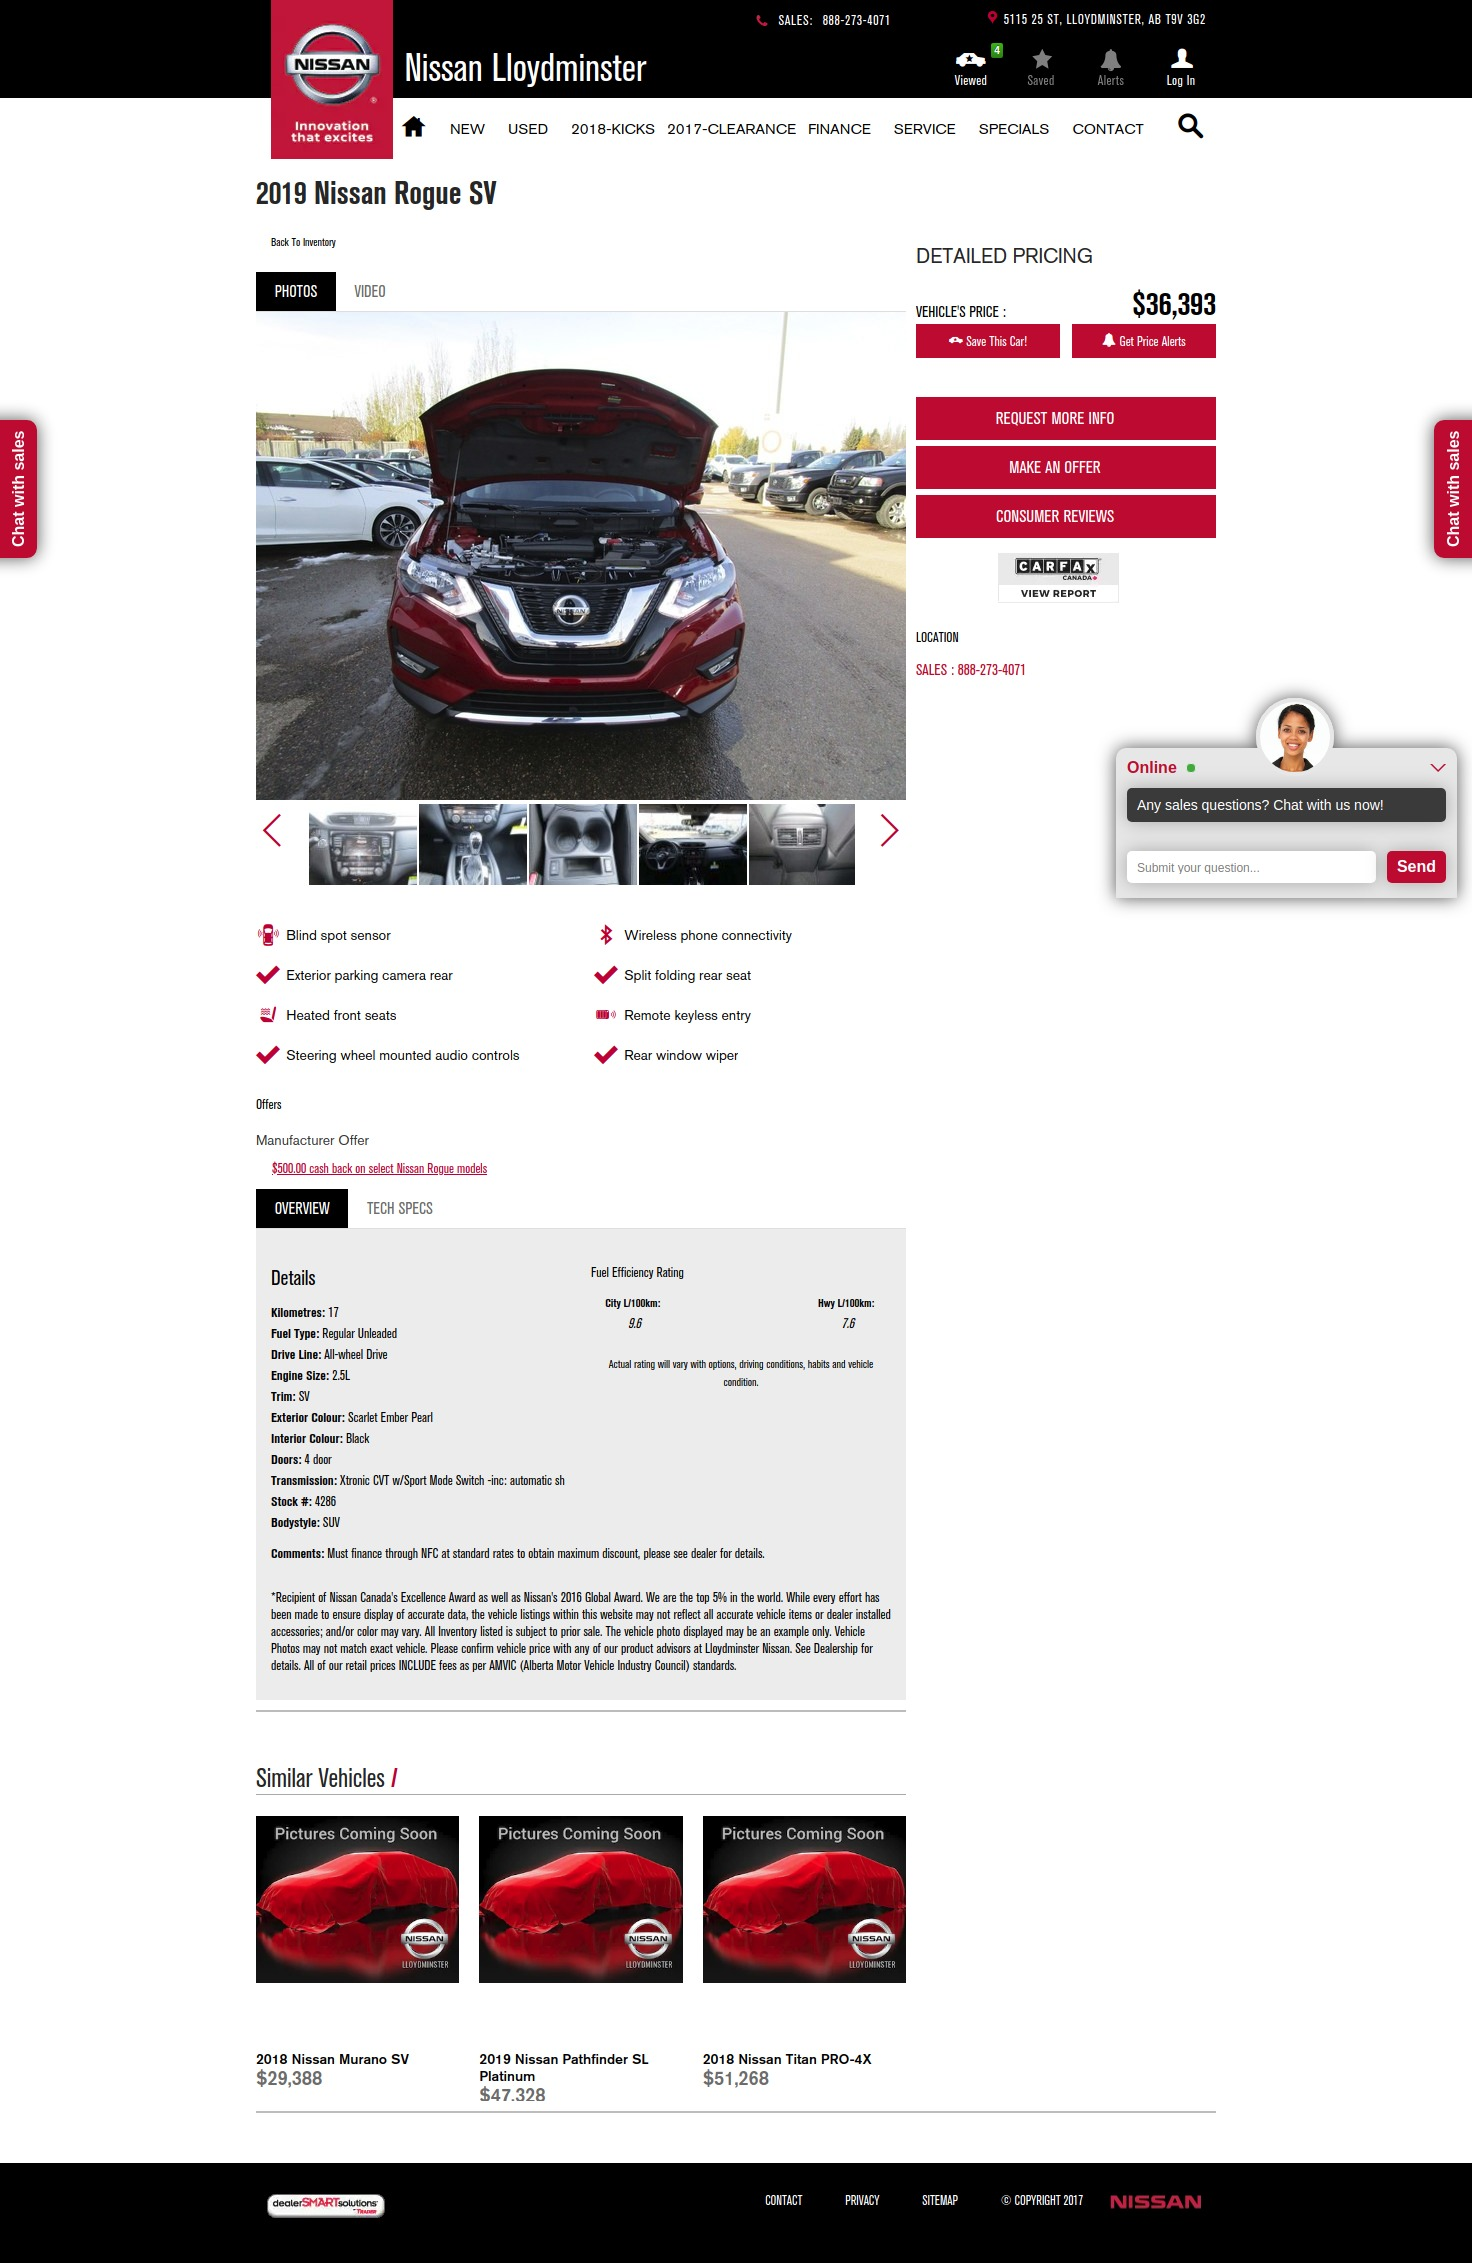car: (880, 815, 901, 848)
